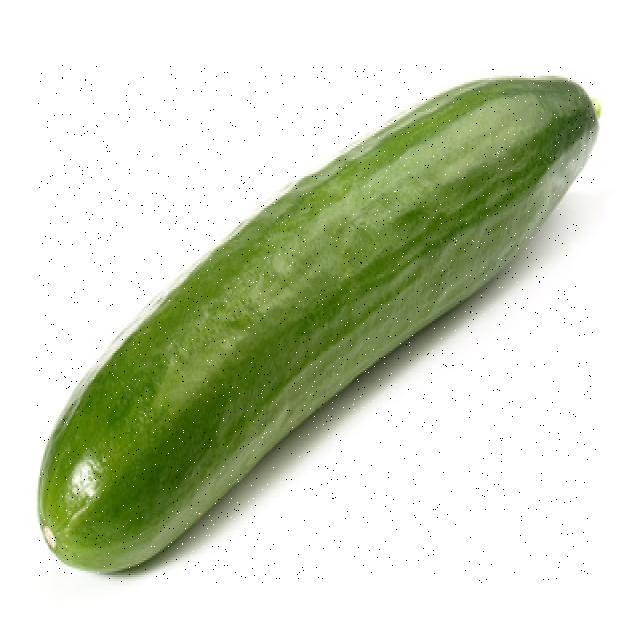Cucumber: (26, 88, 601, 582)
